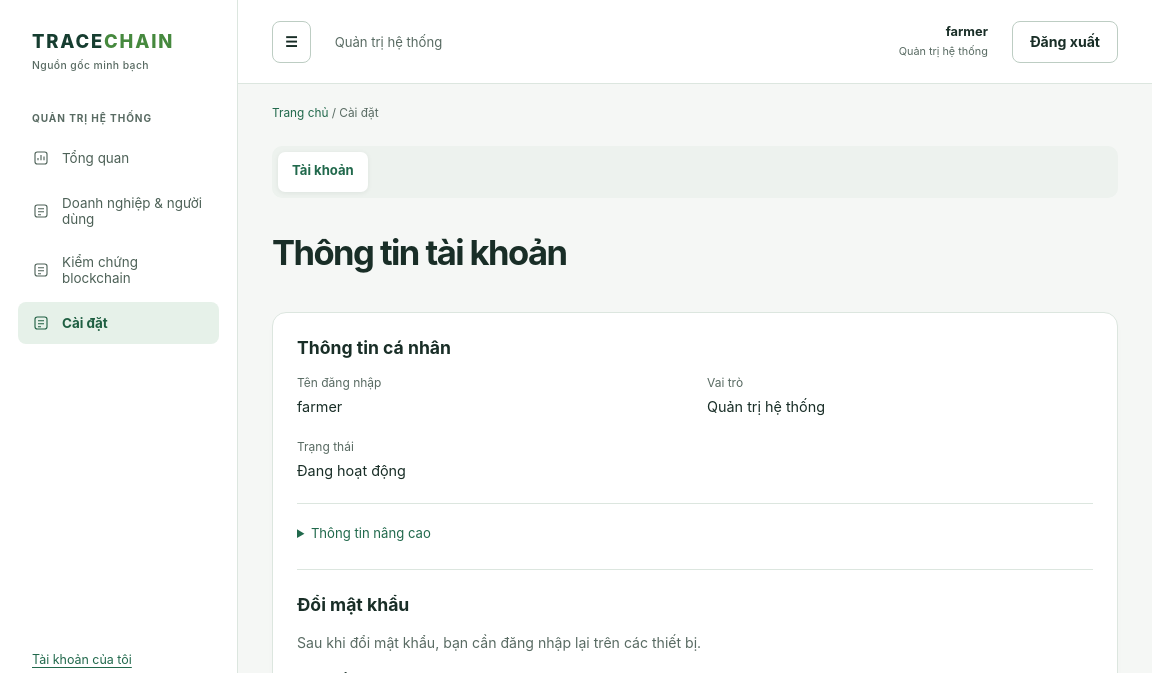
Scenario: matches the Fabric organization tab to its read permission (allowed: true)
Step 1. Click the link "Kiểm chứng blockchain" → (85, 270), box [32, 254, 138, 286]
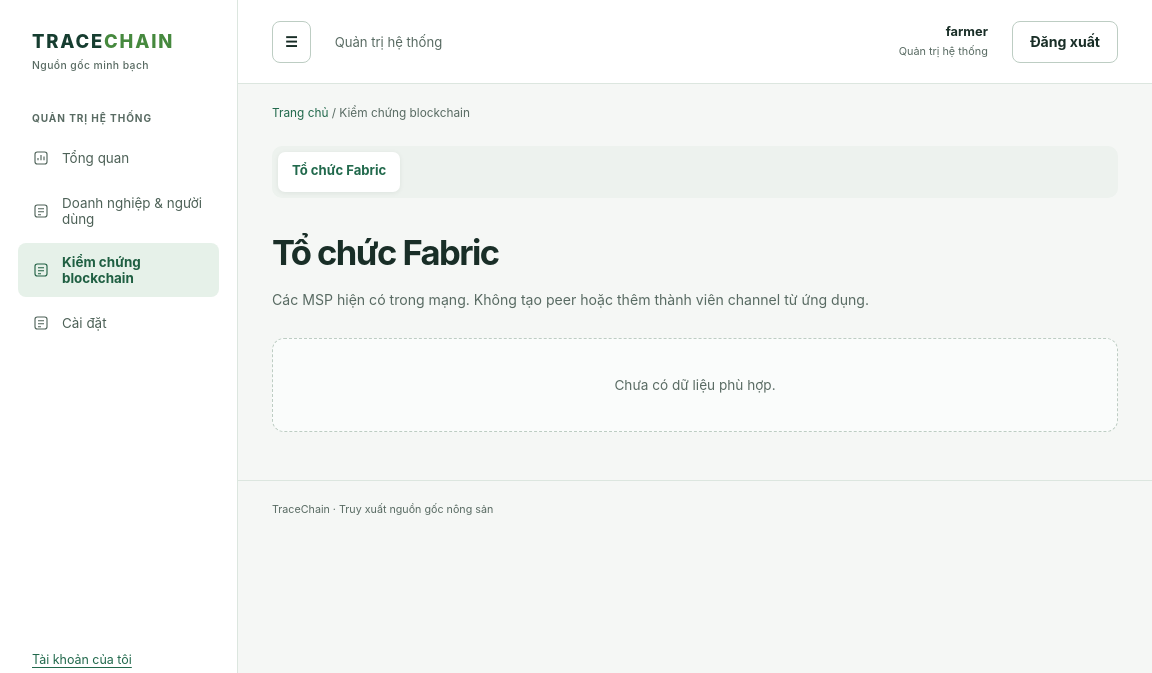
Expected: the heading "Tổ chức Fabric" is shown, [272, 232, 498, 273]
